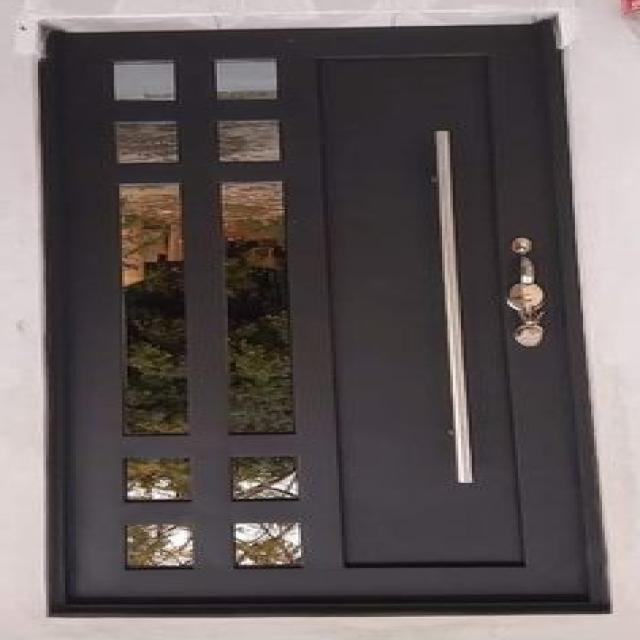door: (39, 22, 609, 616)
